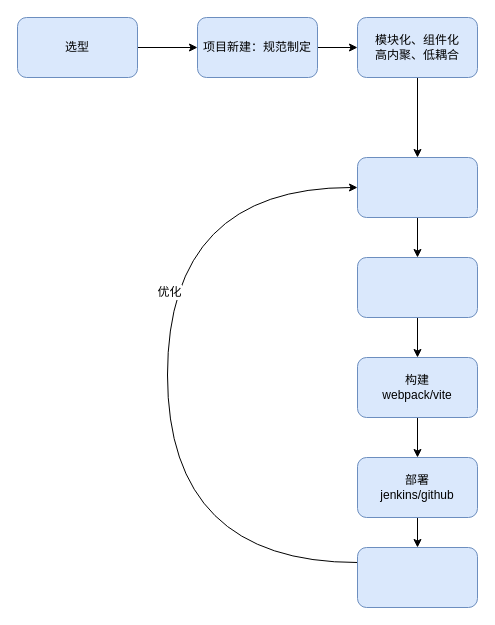
Image size: 495x625. Some labels were removed from this diagram. Each missing label, with the box of its shape:
开发 辅助工具: (356, 156, 478, 218)
测试 单元测试、集成测试: (356, 256, 478, 318)
监控 数据采集: (356, 546, 478, 608)
